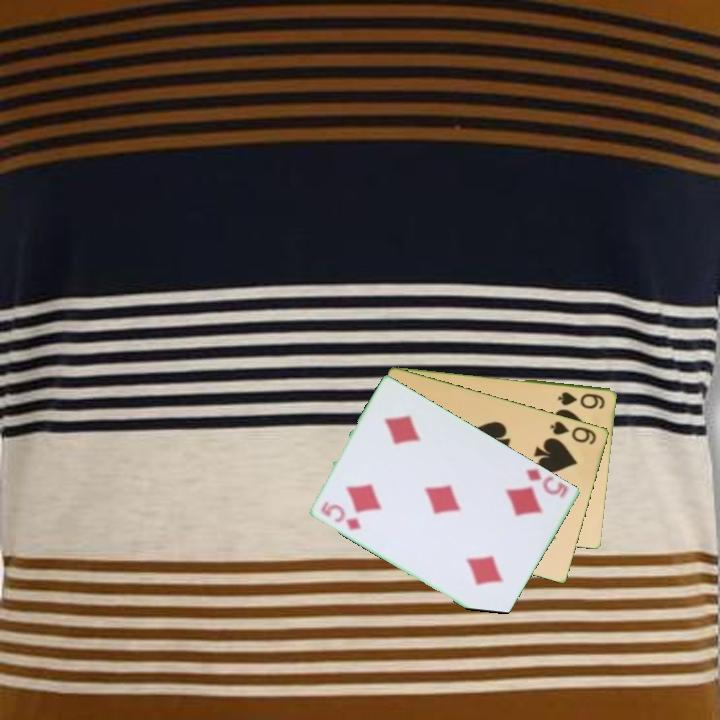5d: (523, 465, 571, 501), (318, 497, 364, 533)
6s: (547, 417, 599, 448), (555, 388, 608, 412)
